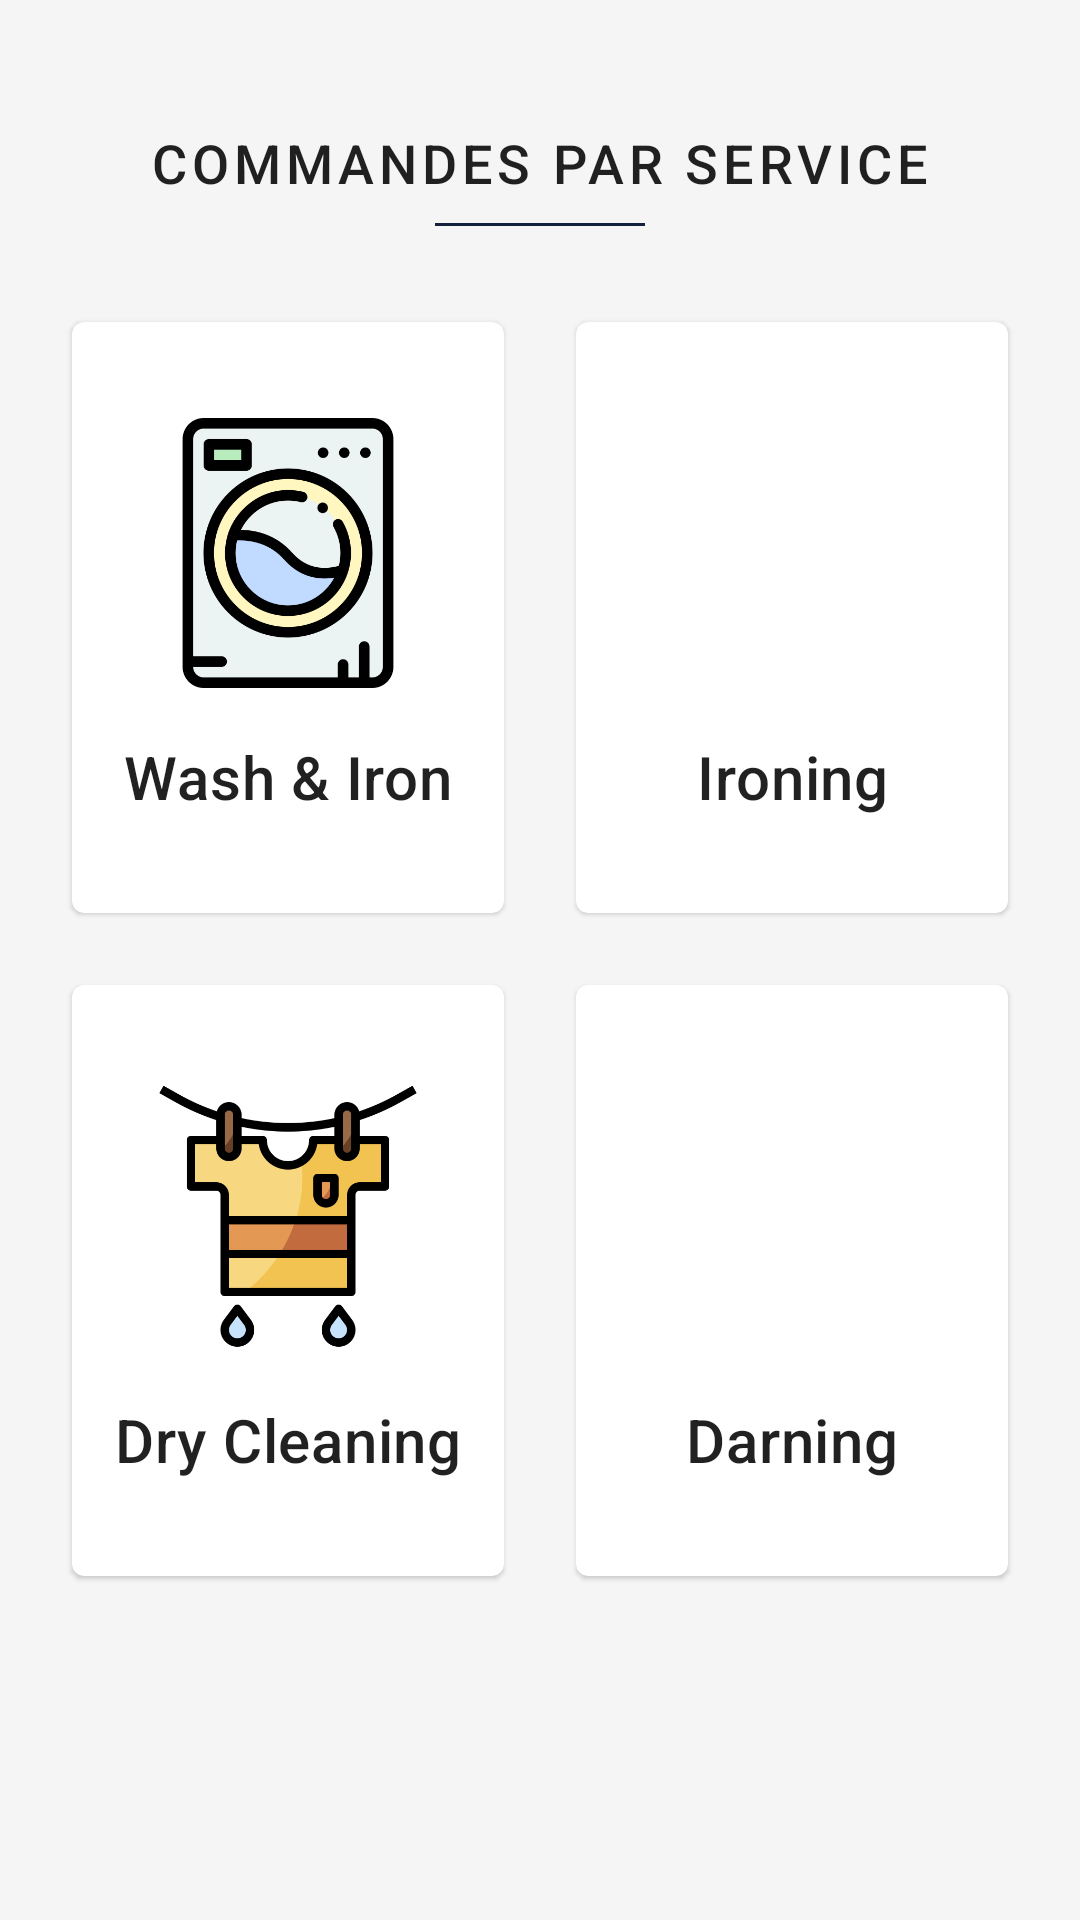

Point at icon controls on the screen. Image size 1080px×1920px, points as [x,y].
drying: [288,1216]
washing machine: [288,553]
